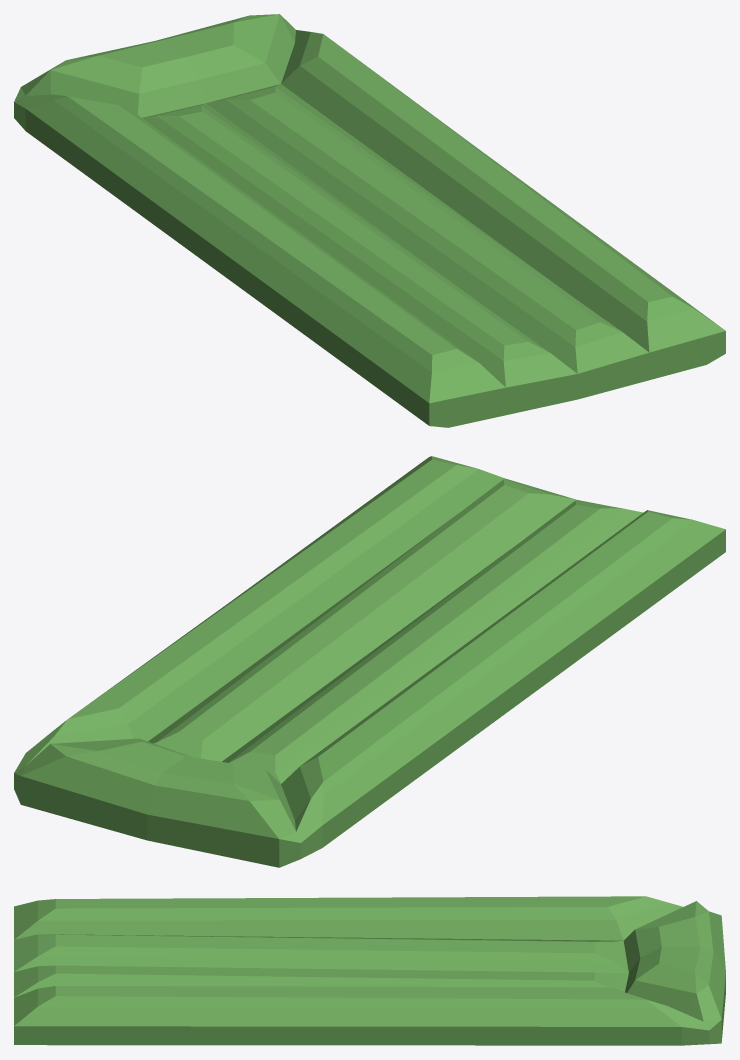
The model's file is FloatBed.obj.
3 views of the same model, one above another, from view 1: azimuth 30°, elevation 25°; view 2: azimuth 150°, elevation 25°; view 3: azimuth 270°, elevation 25° (orthographic). The views are drawn at different scales.
Visible parts, largest first — view 1: FloatBed; view 2: FloatBed; view 3: FloatBed.
Part boxes in pixels (x1,y1,x2,y2): FloatBed: (14,14,725,427); FloatBed: (14,456,725,867); FloatBed: (14,896,725,1045).
Size of the model in its own units: 0.7565 by 0.1445 by 1.9.
1 material, 1 textured.
